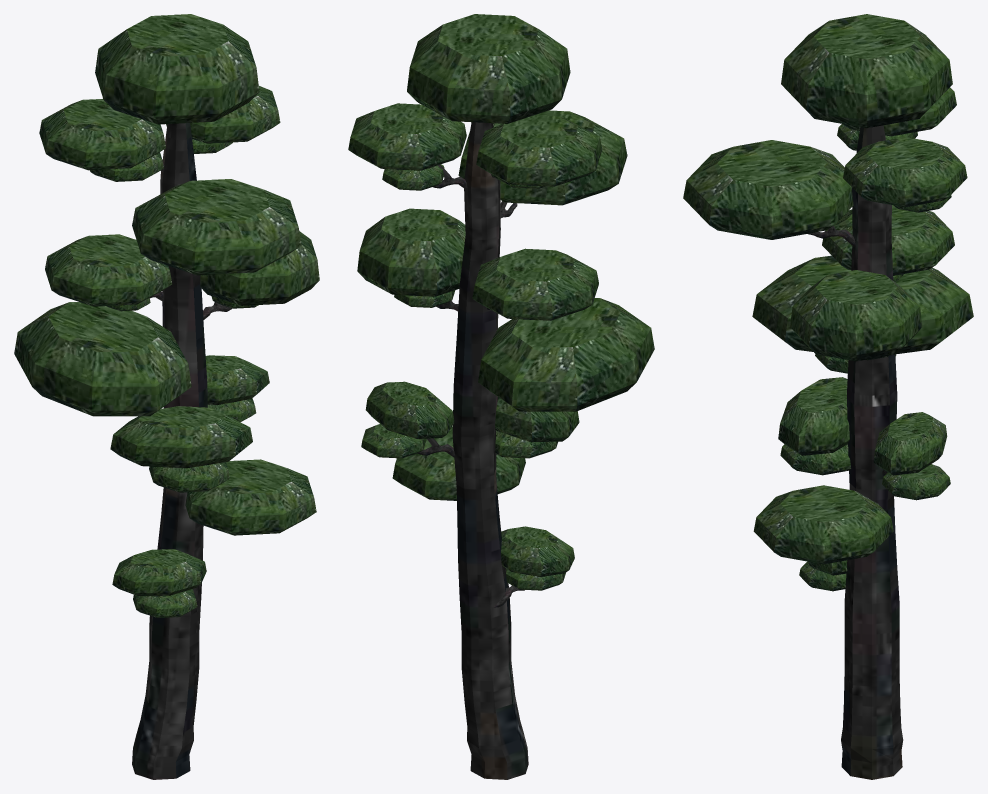
The model's file is cay-tung-dang-truc-1.glb.
The picture shows the model from 3 angles, left to right: view 1: azimuth 30°, elevation 25°; view 2: azimuth 150°, elevation 25°; view 3: azimuth 270°, elevation 25°; orthographic projection.
Visible parts, largest first — view 1: Circle_067; view 2: Circle_067; view 3: Circle_067.
Boxes of the visible parts, x1=… form: Circle_067: x1=14, y1=14, x2=319, y2=779; Circle_067: x1=348, y1=14, x2=654, y2=779; Circle_067: x1=683, y1=14, x2=973, y2=779.
Bounding box in the file's own units: 2.63 × 6.61 × 2.36.
Materials: 1 (1 with a texture image).
